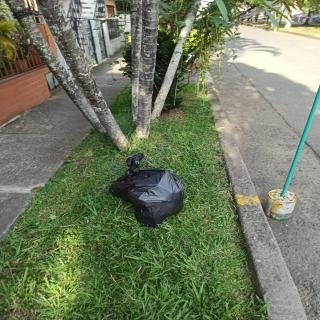Garbage: (104, 152, 197, 232)
